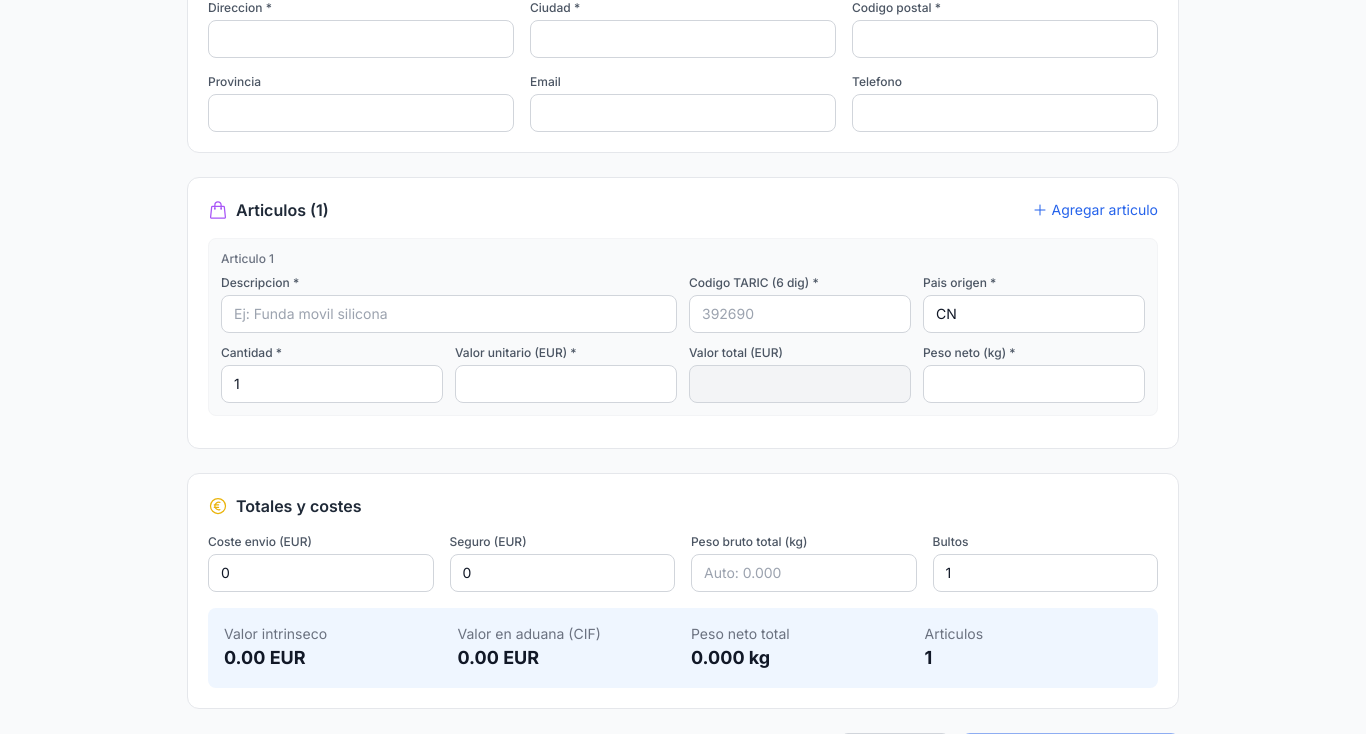
Test: H7DirectForm › Items - gestión y auto-cálculo › auto-calcula totalValue cuando cambia unitValue
The width and height of the screenshot is (1366, 734).
(page scrolled)
Replace the text in the number field below "Cantidad *" with "2": (332, 384) [221, 365, 443, 403]
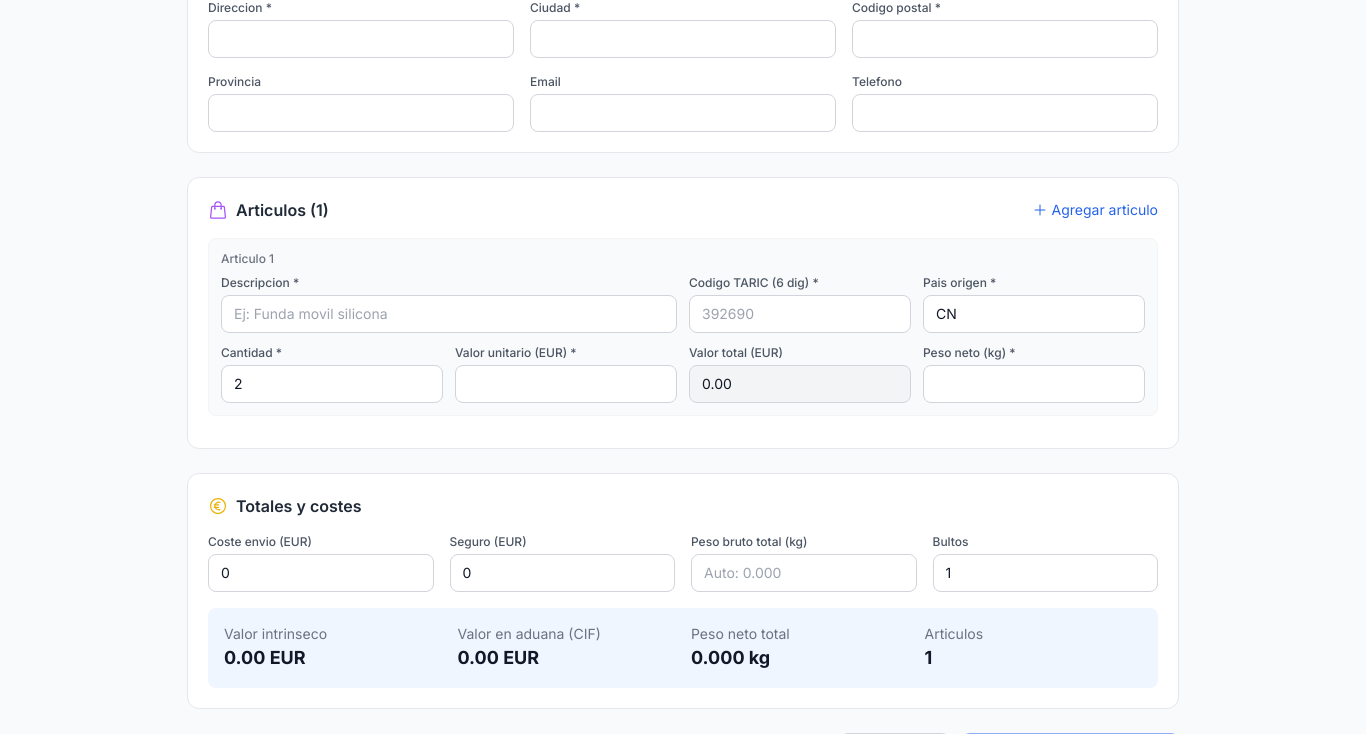
In the number field below "Valor unitario (EUR) *": (566, 384) [455, 365, 677, 403], type "12.50"
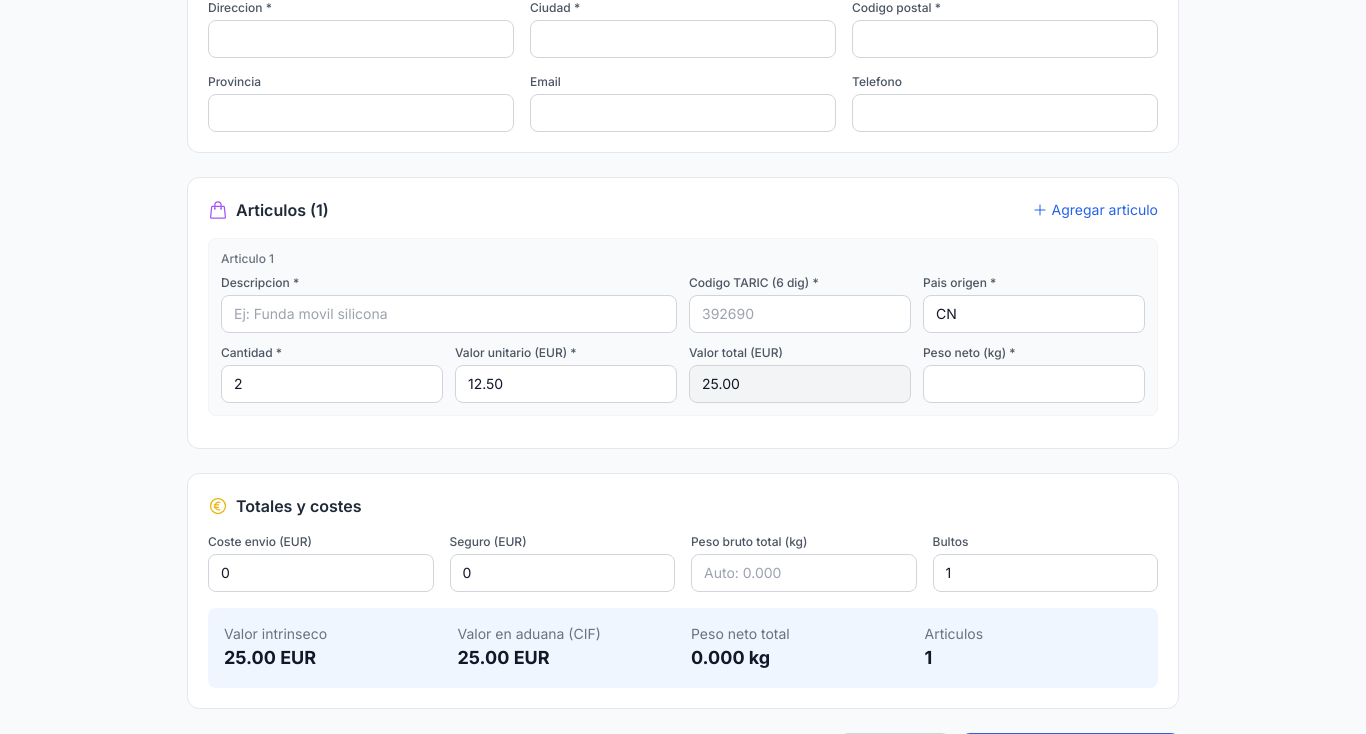
Expected: the number field below "Valor total (EUR)" holds "25.00", [689, 365, 911, 403]
